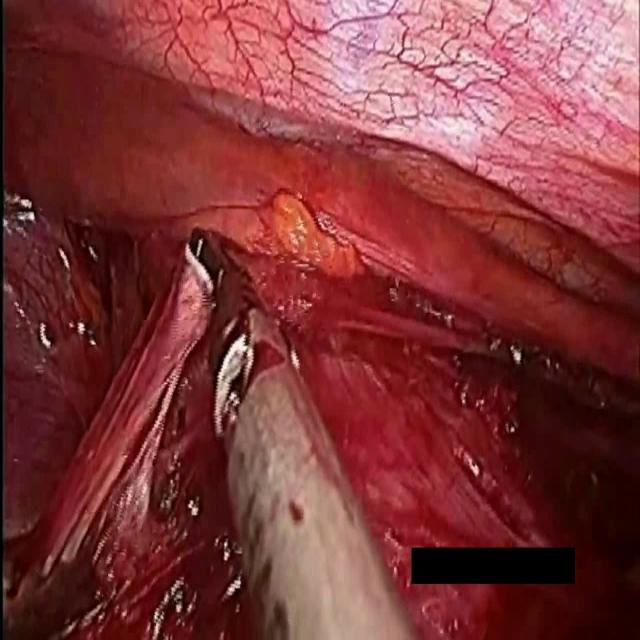surgical-area: (390, 538, 640, 639)
surgical-tool: (189, 230, 428, 639)
